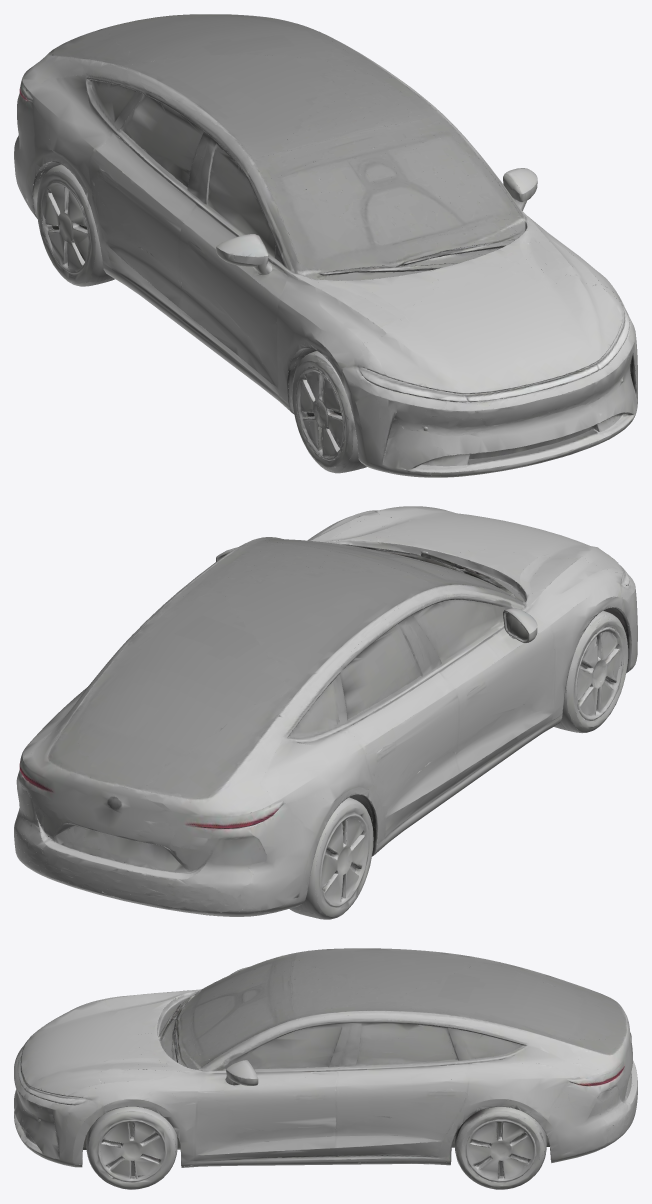
File: sedan.glb
The picture shows the model from 3 angles, top to bottom: view 1: azimuth 30°, elevation 25°; view 2: azimuth 150°, elevation 25°; view 3: azimuth 270°, elevation 25°; orthographic projection. The views are drawn at different scales.
Parts seen in each view (by area): view 1: material; view 2: material; view 3: material.
Boxes of the visible parts, bbox=[...] form: material: bbox=[14, 14, 637, 477]; material: bbox=[14, 506, 637, 919]; material: bbox=[14, 948, 637, 1189].
Size of the model in its own units: 2 by 1.4 by 4.75.
Materials: 1 (1 with a texture image).
